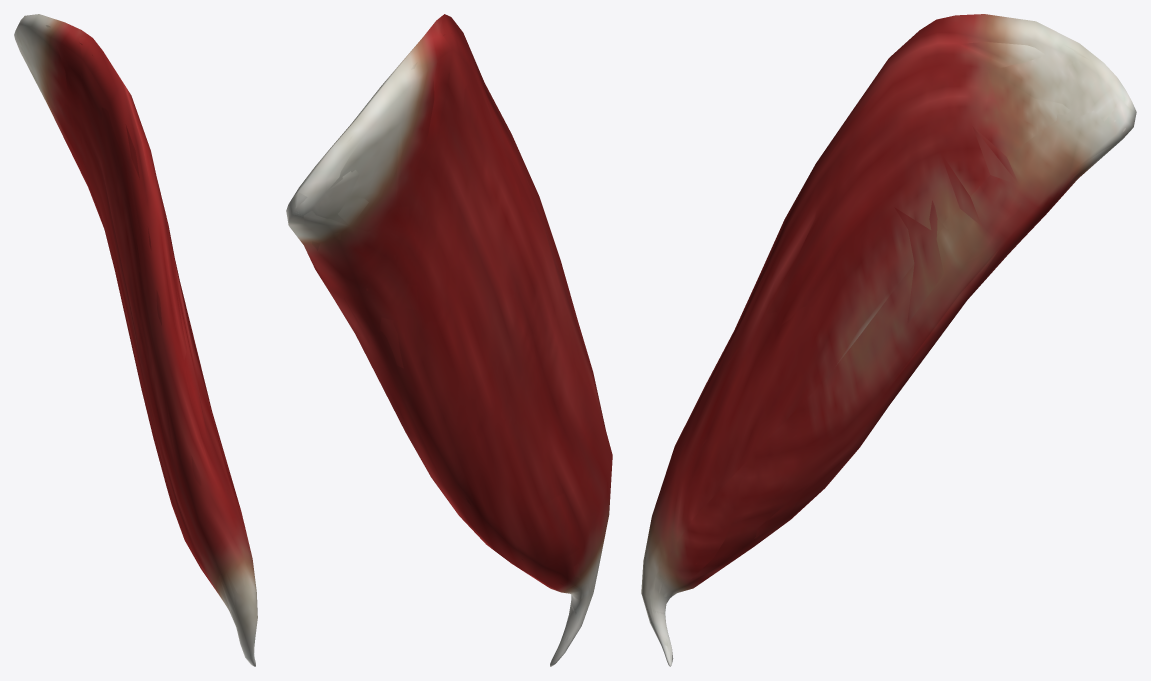
File: L Supraspinatus.fbx
3 views of the same model, side by side, from view 1: azimuth 30°, elevation 25°; view 2: azimuth 150°, elevation 25°; view 3: azimuth 270°, elevation 25° (orthographic). The views are drawn at different scales.
Visible parts, largest first — view 1: L Supraspinatus, L Supraspinatus low, L Supraspinatus high; view 2: L Supraspinatus, L Supraspinatus low, L Supraspinatus high; view 3: L Supraspinatus, L Supraspinatus low, L Supraspinatus high.
Part boxes in pixels (x1,y1,x2,y2): L Supraspinatus: (14,14,257,666); L Supraspinatus low: (14,15,257,642); L Supraspinatus high: (19,23,256,661); L Supraspinatus: (286,14,612,666); L Supraspinatus low: (288,14,611,626); L Supraspinatus high: (288,33,603,655); L Supraspinatus: (641,14,1136,666); L Supraspinatus low: (642,42,1132,664); L Supraspinatus high: (645,39,1125,661).
Bounding box in the file's own units: 1.02 × 6.83 × 4.9.
